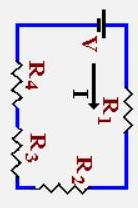Battery: (87, 4, 121, 35)
